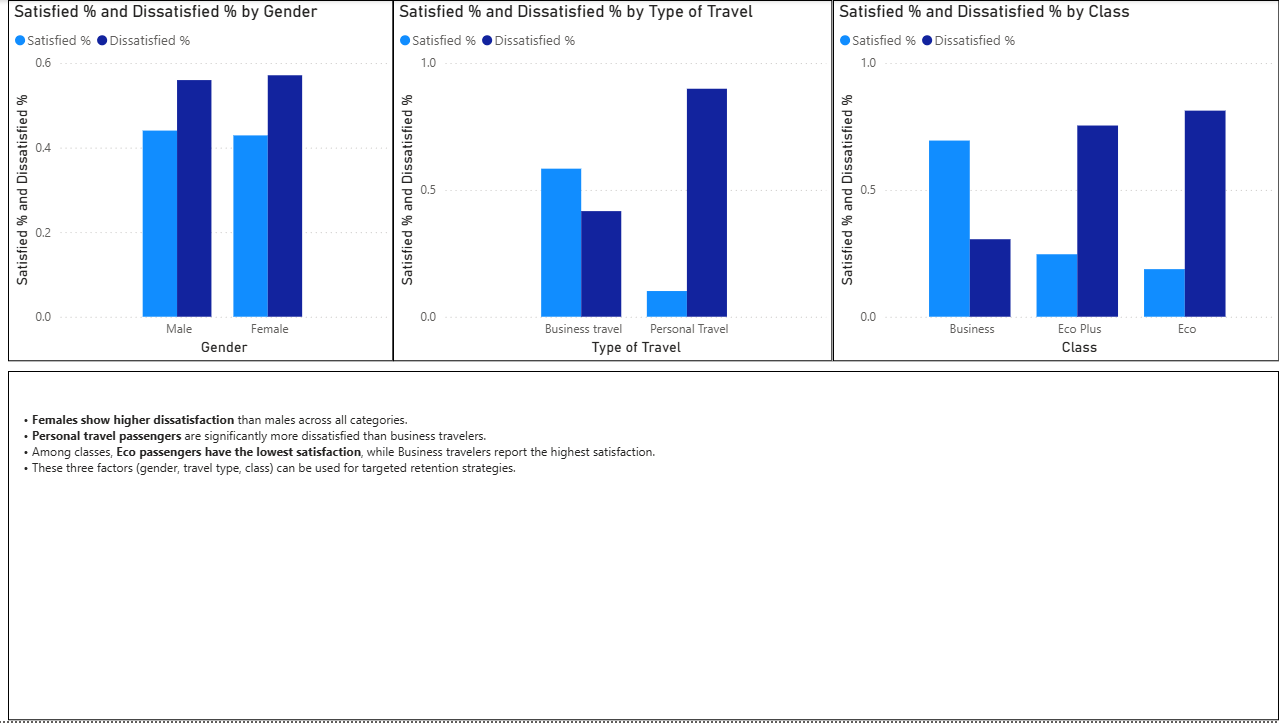

This screenshot's page, from the dashboard's own definition file:
{"tool":"powerbi","page":{"name":"Customer Satisfaction Breakdown","canvas":[1280,720],"ordinal":1},"visuals":[{"type":"clusteredColumnChart","fields":{"Category":["flight_customer.gender"],"Y":["flight_customer.Satisfied %","flight_customer.Dissatisfied %"]},"box":[9.8,0,385.3,360.8],"z":0},{"type":"clusteredColumnChart","fields":{"Category":["flight_customer.type_of_travel"],"Y":["flight_customer.Satisfied %","flight_customer.Dissatisfied %"]},"box":[395.1,0,439.2,360.8],"z":1000},{"type":"clusteredColumnChart","fields":{"Category":["flight_customer.class"],"Y":["flight_customer.Satisfied %1","flight_customer.Dissatisfied %"]},"box":[834.3,0,445.7,360.8],"z":2000},{"type":"textbox","box":[9.7,370.6,1270.3,349.2],"z":3000}]}

Visuals, with their boxes in screenshot pixels (x1, y1, x2, y2), scaled from the page's 1280x720 canvas onto the 1279x724 screenshot:
clusteredColumnChart - flight_customer.gender x flight_customer.Satisfied %: 10/0/395/363
clusteredColumnChart - flight_customer.type_of_travel x flight_customer.Satisfied %: 395/0/834/363
clusteredColumnChart - flight_customer.class x flight_customer.Satisfied %1: 834/0/1278/363
textbox: 10/373/1278/723
